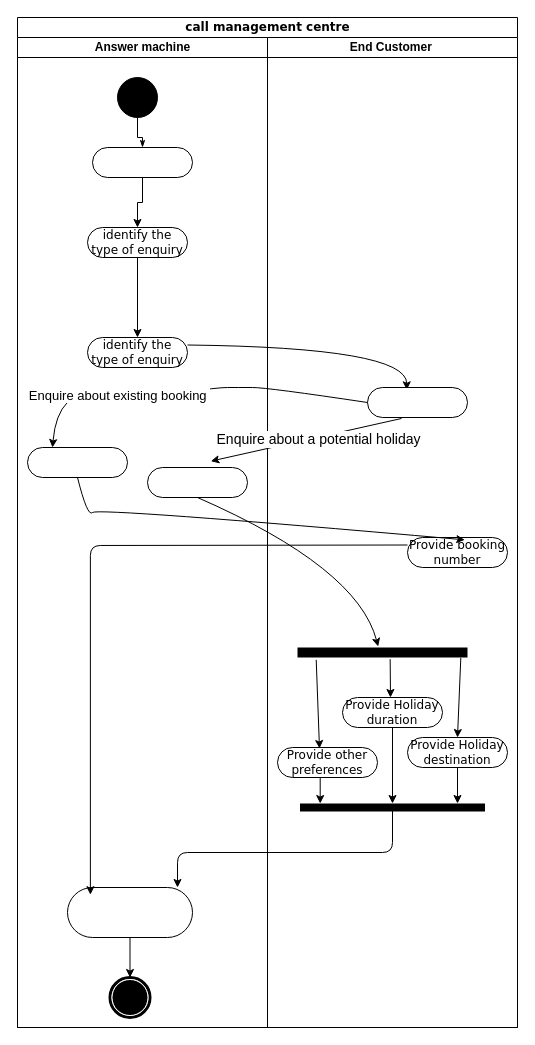
Image size: 535x1045. Some labels were removed from this diagram. The centre of each missing label's shape, as x and y in pixels:
"Ask for booking number" goes at point (77, 462).
"Ask for holiday details" goes at point (197, 482).
"choose from list provided" goes at point (417, 402).
"Connect to the next available RM" goes at point (129, 912).
"Welcome message" goes at point (142, 162).
